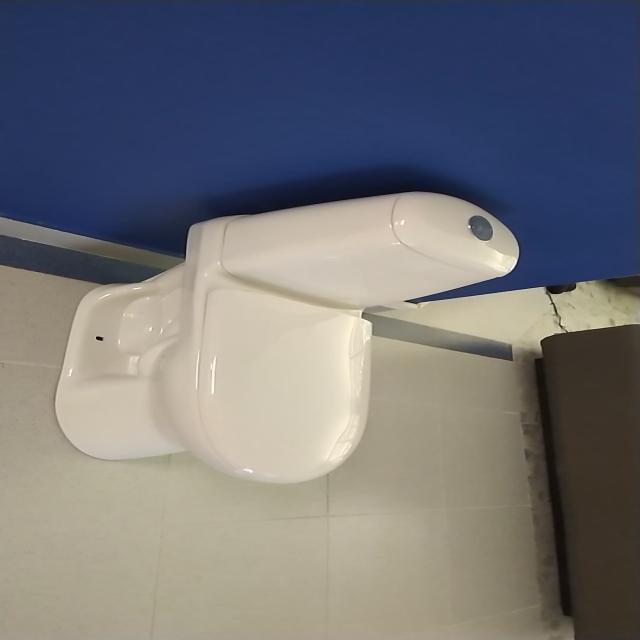toilet: (51, 185, 524, 488)
